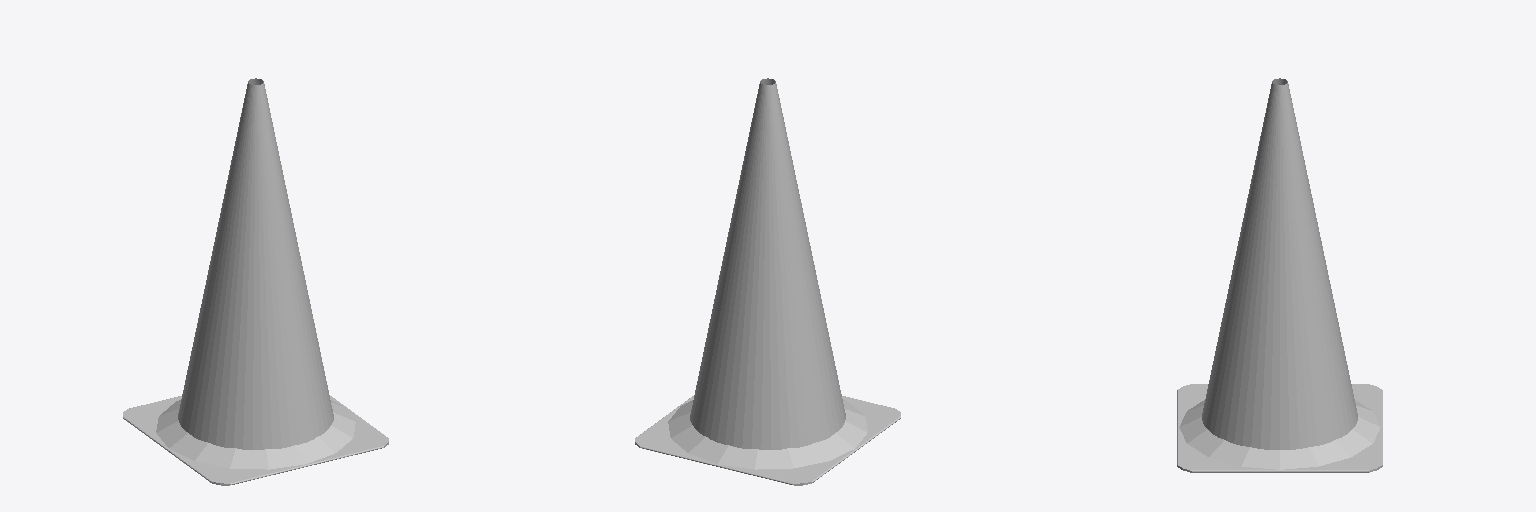
The model's file is big_orange.obj.
3 views of the same model, side by side, from view 1: azimuth 30°, elevation 25°; view 2: azimuth 150°, elevation 25°; view 3: azimuth 270°, elevation 25° (orthographic).
Visible parts, largest first — view 1: cone_big; view 2: cone_big; view 3: cone_big.
Boxes of the visible parts, x1,y1,x2,y2 form: cone_big: [123, 78, 388, 485]; cone_big: [635, 78, 900, 485]; cone_big: [1177, 78, 1382, 472].
Bounding box in the file's own units: 27 × 50.39 × 27.